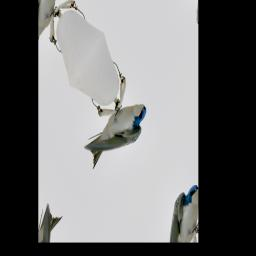Swallow: (79, 78, 152, 190)
